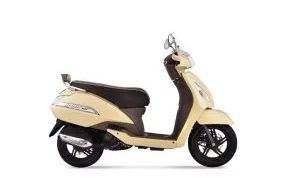bike: (42, 32, 240, 171)
